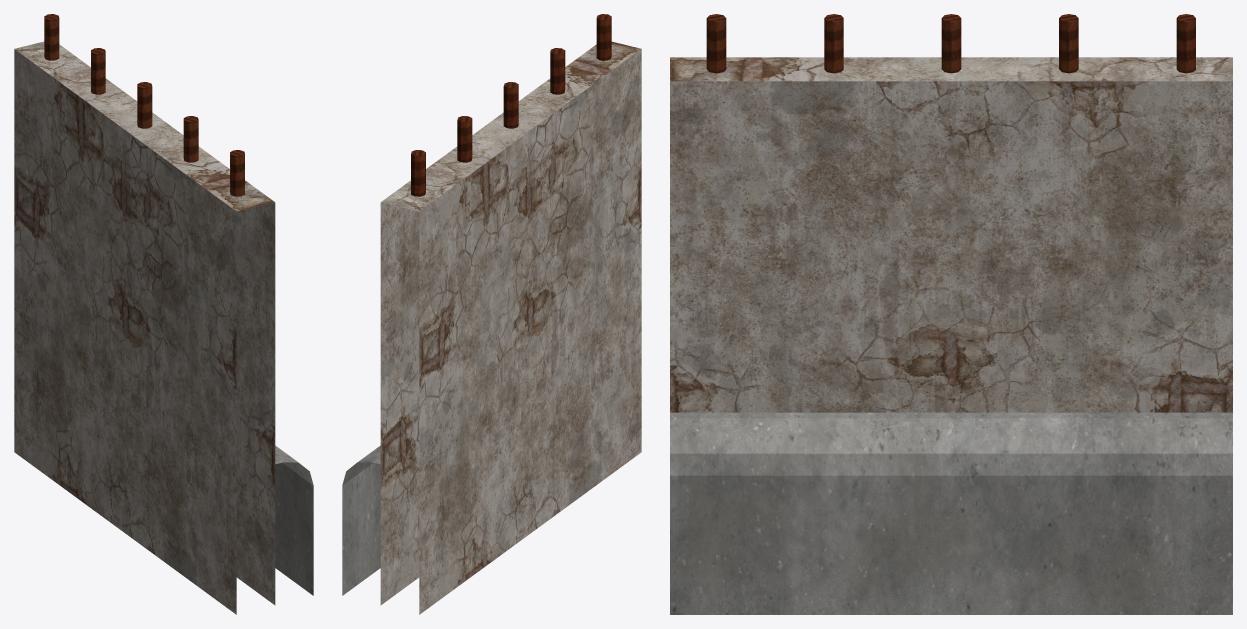
Rendered from Wall.fbx.
3 views of the same model, side by side, from view 1: azimuth 30°, elevation 25°; view 2: azimuth 150°, elevation 25°; view 3: azimuth 270°, elevation 25° (orthographic). The views are drawn at different scales.
Parts seen in each view (by area): view 1: Wall; view 2: Wall; view 3: Wall.
Part boxes in pixels (x1,y1,x2,y2): Wall: (14,14,313,614); Wall: (342,14,641,614); Wall: (670,14,1232,614).
Bounding box in the file's own units: 40 × 220 × 200.
